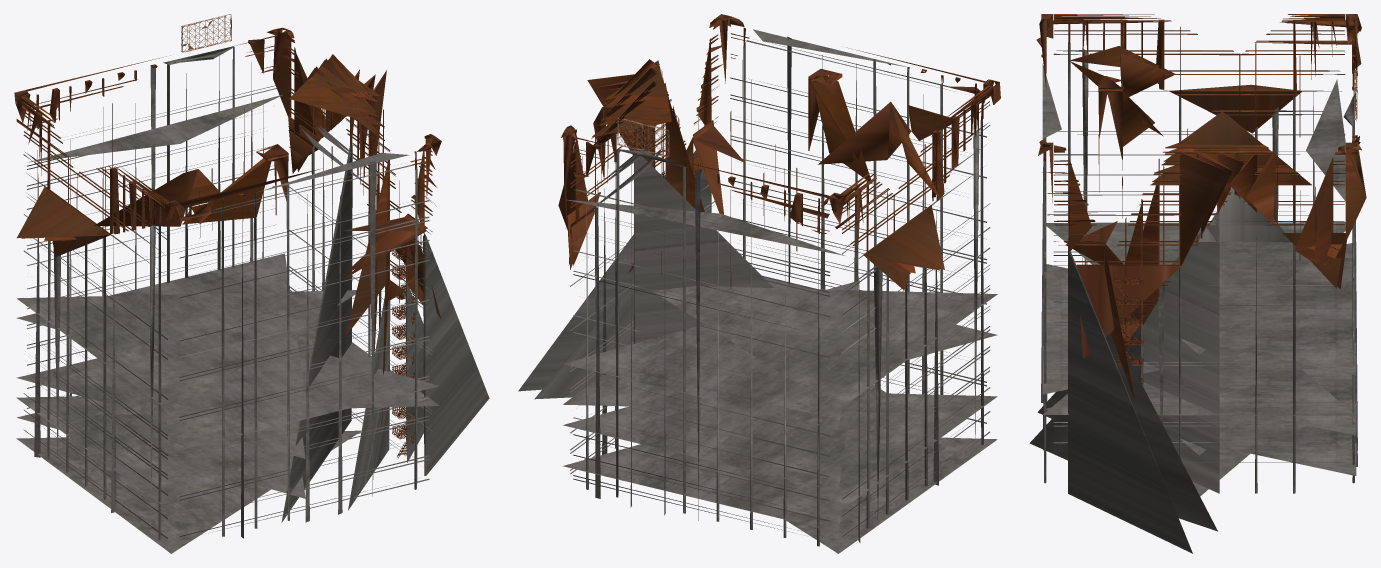
Rendered from ruin-3.glb.
3 views of the same model, side by side, from view 1: azimuth 30°, elevation 25°; view 2: azimuth 150°, elevation 25°; view 3: azimuth 270°, elevation 25° (orthographic). The views are drawn at different scales.
Visible parts, largest first — view 1: Building 03; view 2: Building 03; view 3: Building 03.
Part boxes in pixels (<box>): Building 03: <box>14,14,489,553</box>; Building 03: <box>518,14,1000,553</box>; Building 03: <box>1029,14,1366,553</box>.
Size of the model in its own units: 5.24 by 4.24 by 3.41.
3 materials, 3 textured.
